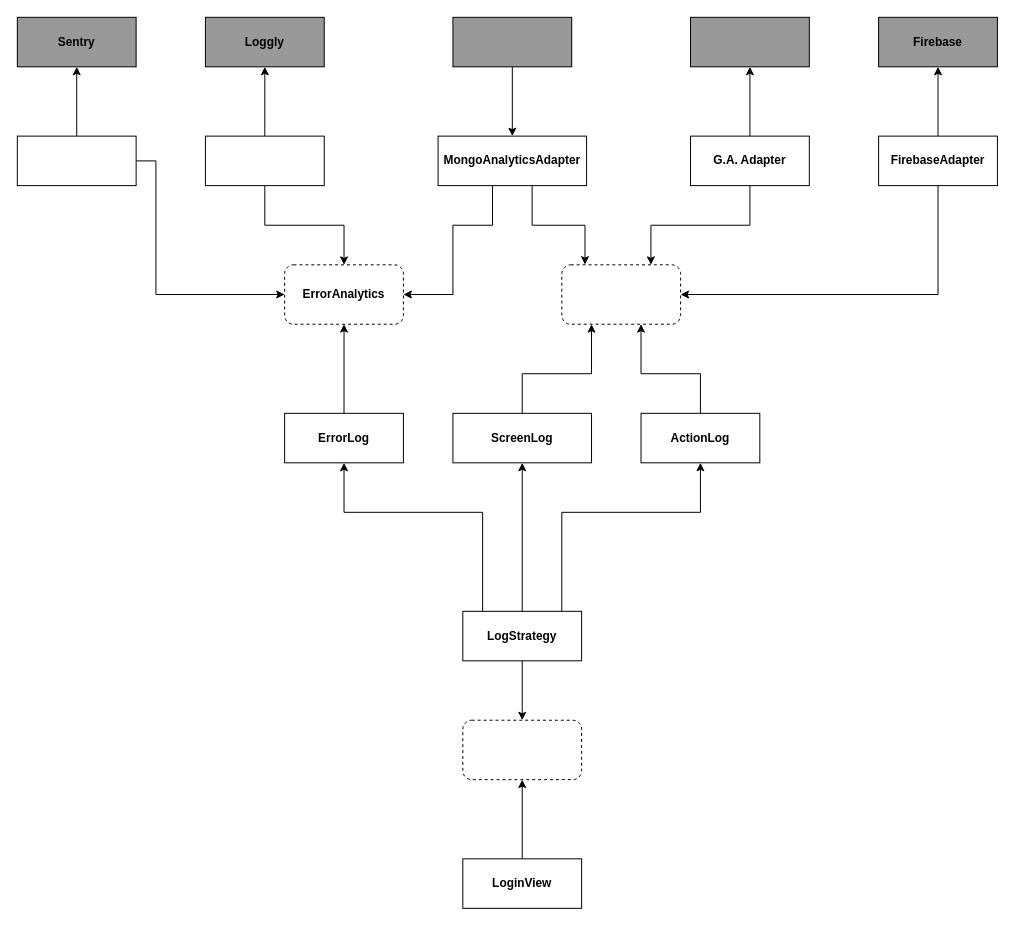
Image size: 1015x926. Some labels were removed from this diagram. Here are the shapes that lost their labels. From the top down, the centre of each, then its label:
At [512,41]: "Mongodb".
At [749,41]: "GoogleAnalytics".
At [76,160]: "SentryAdapter".
At [264,160]: "LogglyAdapter".
At [621,294]: "Analytics".
At [522,749]: "Log".
